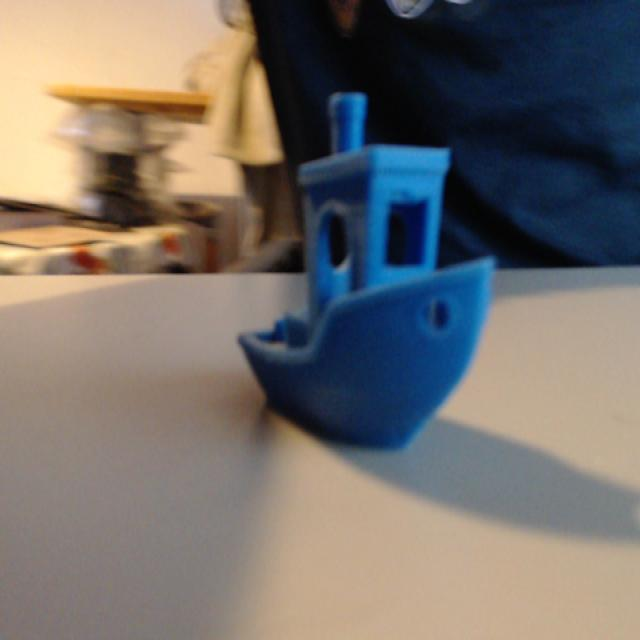benchy: (235, 88, 497, 455)
